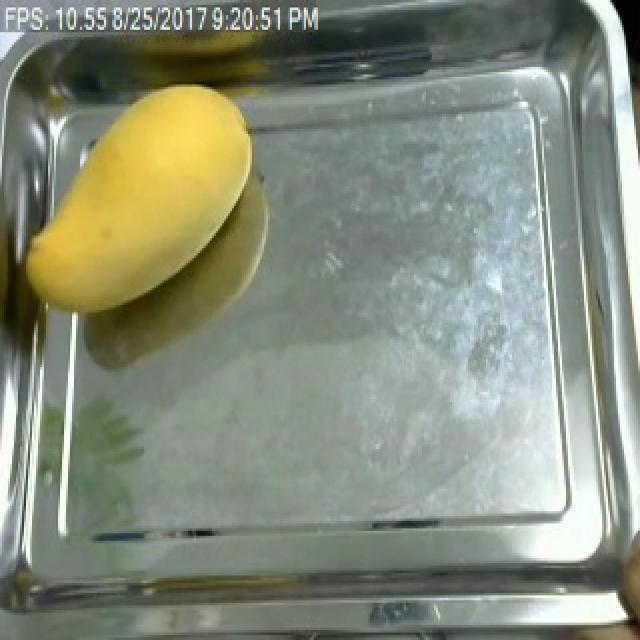fruit: (16, 72, 268, 327)
